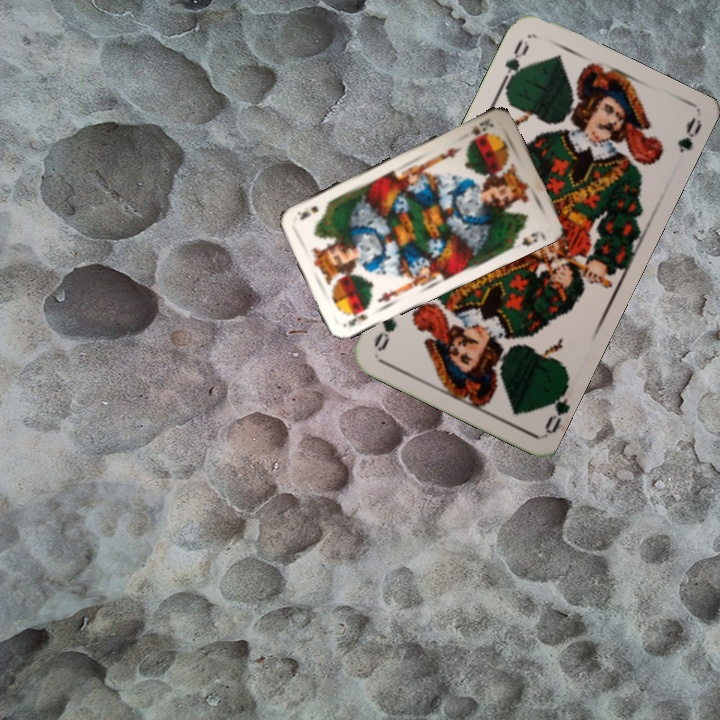GO: (496, 34, 532, 91), (538, 377, 572, 436)
SK: (466, 114, 497, 138), (344, 303, 372, 329)
